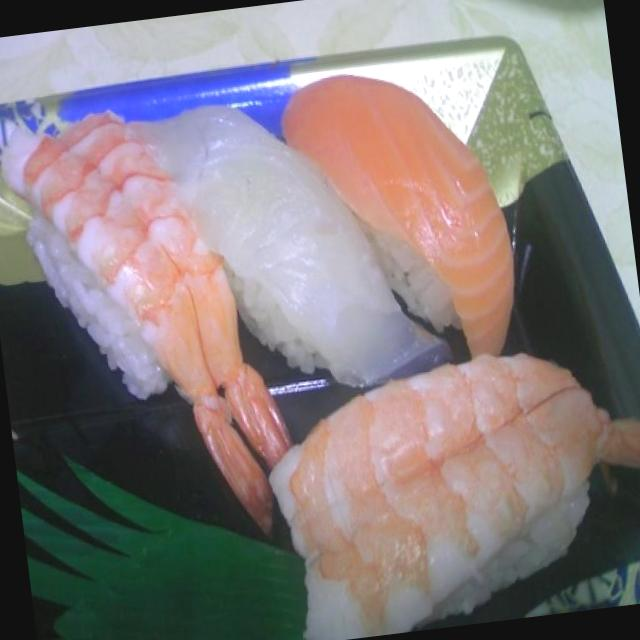Sushi: (16, 66, 535, 436)
